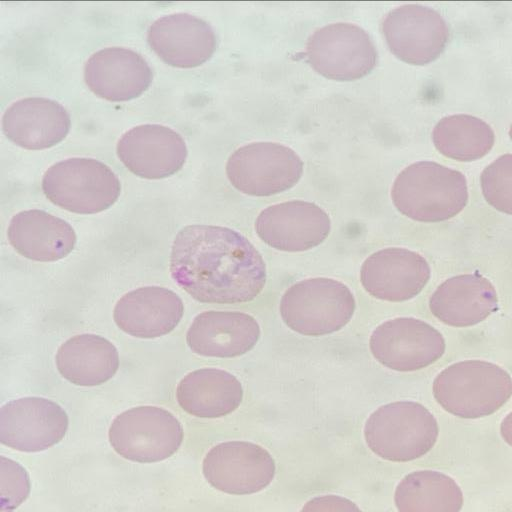Infected: (171, 222, 264, 301)
Uninfected: (390, 161, 466, 222), (431, 359, 509, 418), (41, 156, 119, 214), (279, 278, 355, 336), (107, 405, 183, 463), (364, 400, 437, 460), (381, 4, 450, 67), (306, 21, 375, 82), (226, 141, 301, 195), (359, 246, 431, 302), (202, 439, 275, 494), (81, 45, 151, 102), (117, 123, 188, 179), (369, 318, 444, 370), (428, 272, 496, 328), (148, 12, 217, 67), (255, 199, 329, 250), (7, 208, 75, 263), (113, 285, 183, 338), (1, 96, 69, 150), (54, 332, 120, 387), (0, 396, 64, 452), (186, 310, 259, 359), (176, 367, 244, 418), (432, 112, 493, 160)
